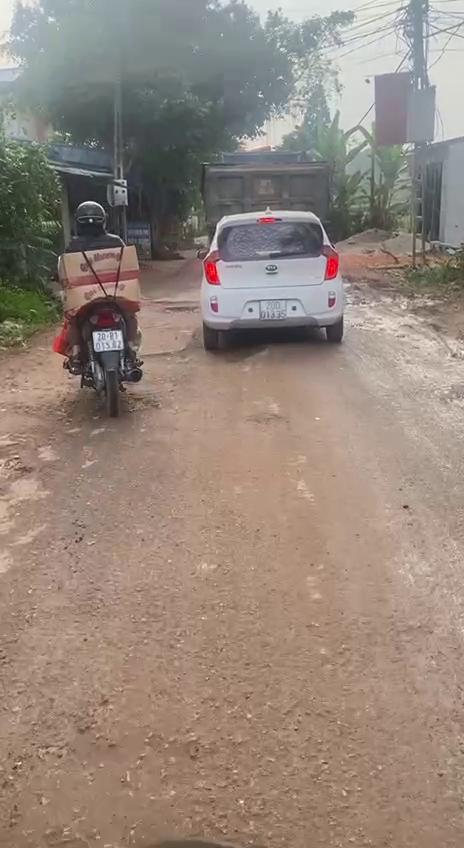pothole: (57, 390, 170, 426), (136, 344, 204, 368)
